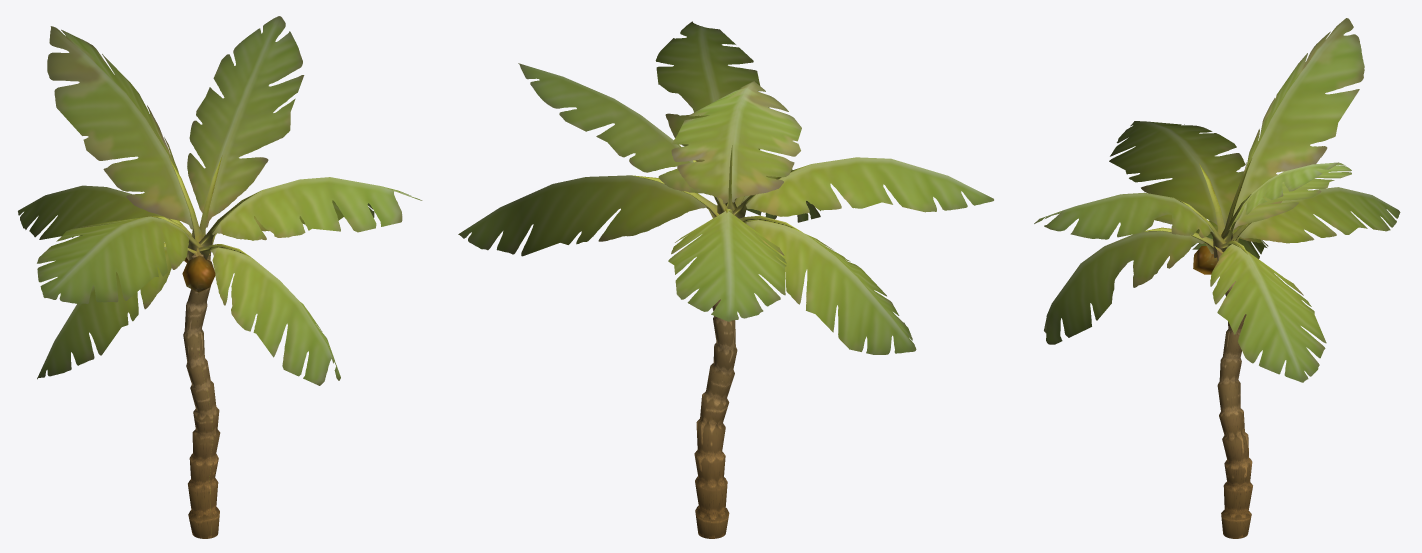
The model's file is coconut palm 04_lod2.obj.
3 renders of one model, left to right at view 1: azimuth 30°, elevation 25°; view 2: azimuth 150°, elevation 25°; view 3: azimuth 270°, elevation 25°, orthographic. The views are drawn at different scales.
Visible parts, largest first — view 1: tree; view 2: tree; view 3: tree.
Part boxes in pixels (left/top/right/bottom): tree: left=18, top=16, right=422, bottom=538; tree: left=458, top=21, right=993, bottom=538; tree: left=1034, top=18, right=1400, bottom=538.
Size of the model in its own units: 374 by 416 by 303.
